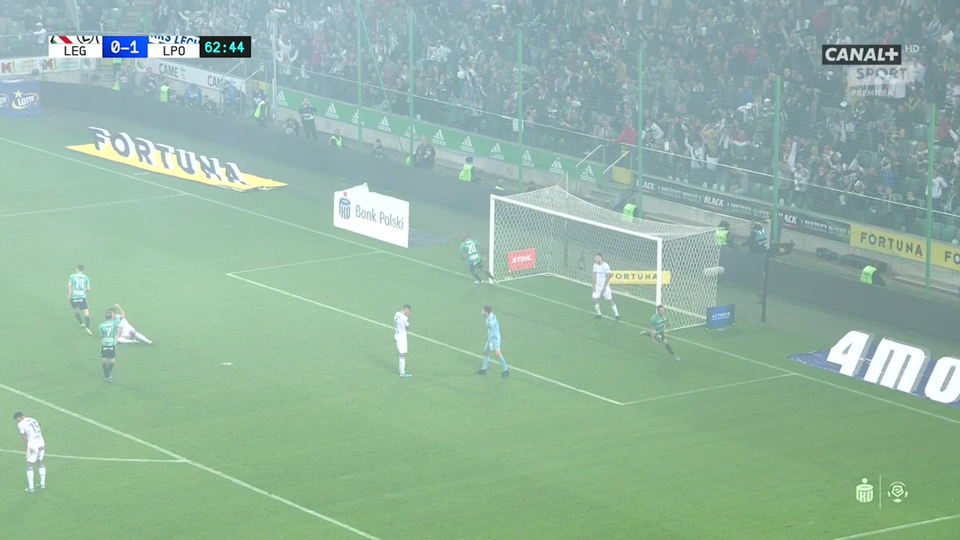Adidas: (460, 132, 477, 154), (429, 129, 448, 148), (375, 113, 392, 131), (324, 101, 340, 119)
